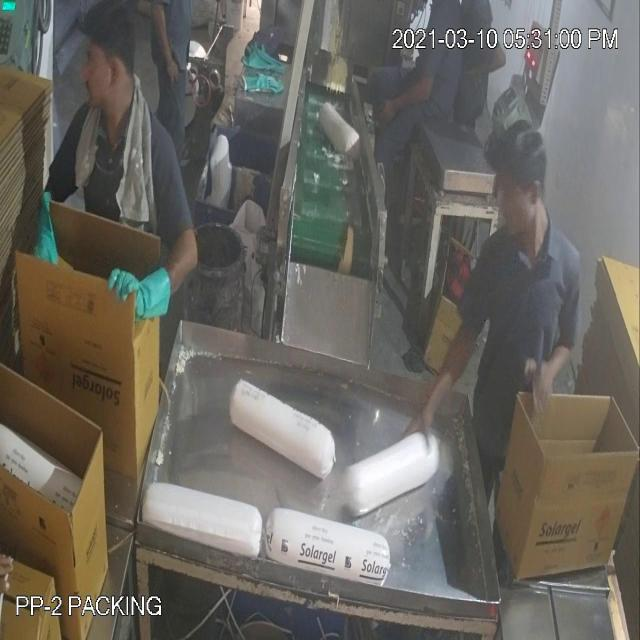gloves: (111, 247, 180, 341), (27, 172, 72, 282)
no-gloves: (402, 268, 488, 456), (522, 317, 585, 418), (377, 71, 442, 133), (147, 1, 183, 83), (466, 36, 506, 92)
